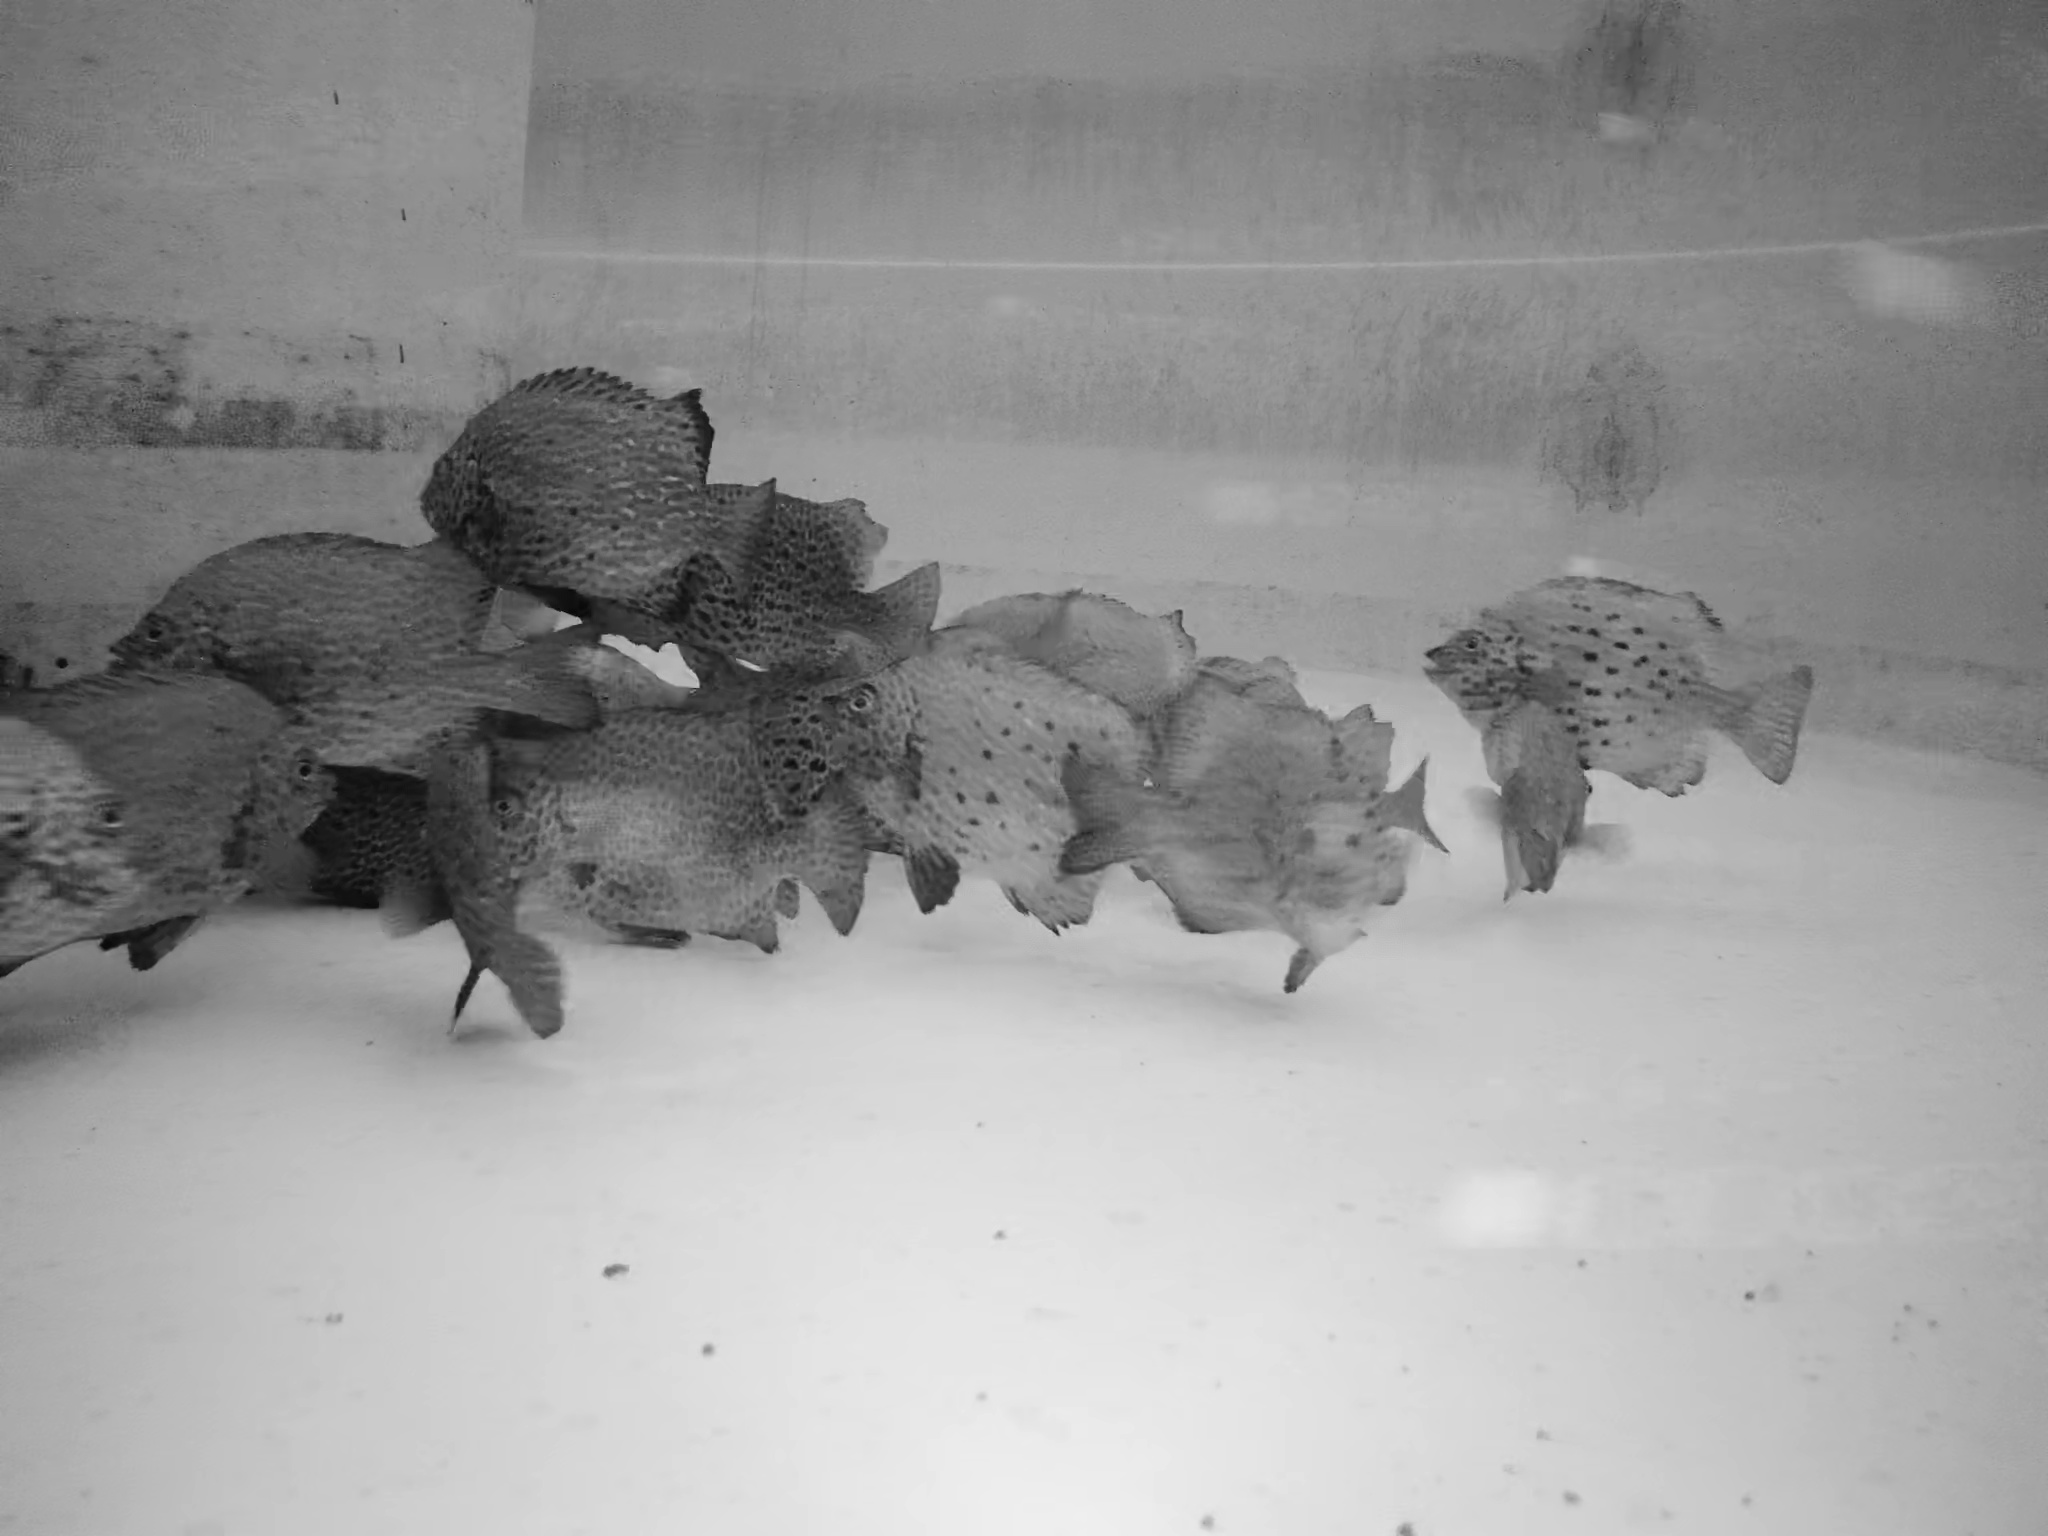fish: (100, 523, 605, 766), (411, 373, 784, 634), (1424, 571, 1819, 815), (1056, 674, 1397, 952), (824, 650, 1158, 929), (15, 681, 334, 966), (526, 710, 869, 962), (676, 484, 942, 681), (427, 750, 558, 1047), (940, 576, 1201, 716), (1251, 774, 1438, 965), (1484, 676, 1601, 899)
